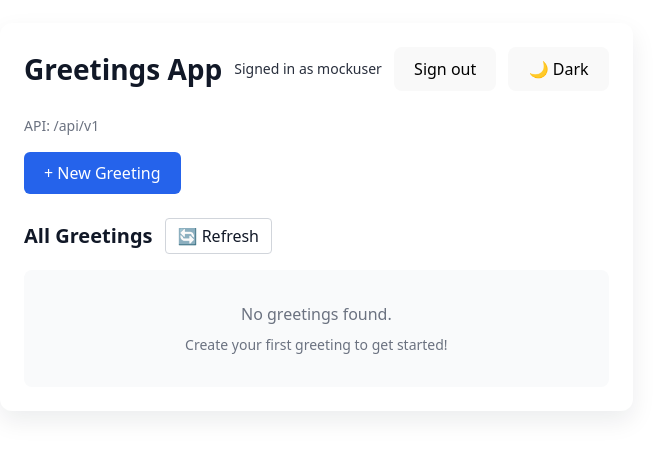
Scenario: App › theme toggle: toggles between light and dark theme
Click the button "🌙 Dark" at (559, 69), box [508,47,609,91]
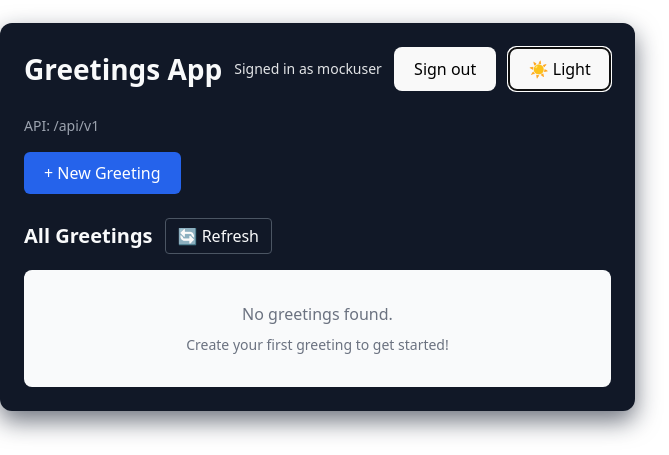
Expected: the button "☀️ Light" is shown, [508,47,611,91]
